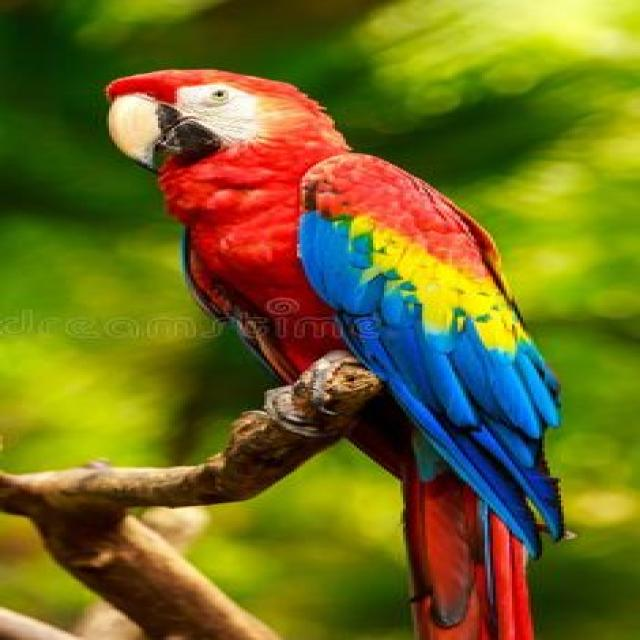Herbivorous: (106, 68, 569, 640)
